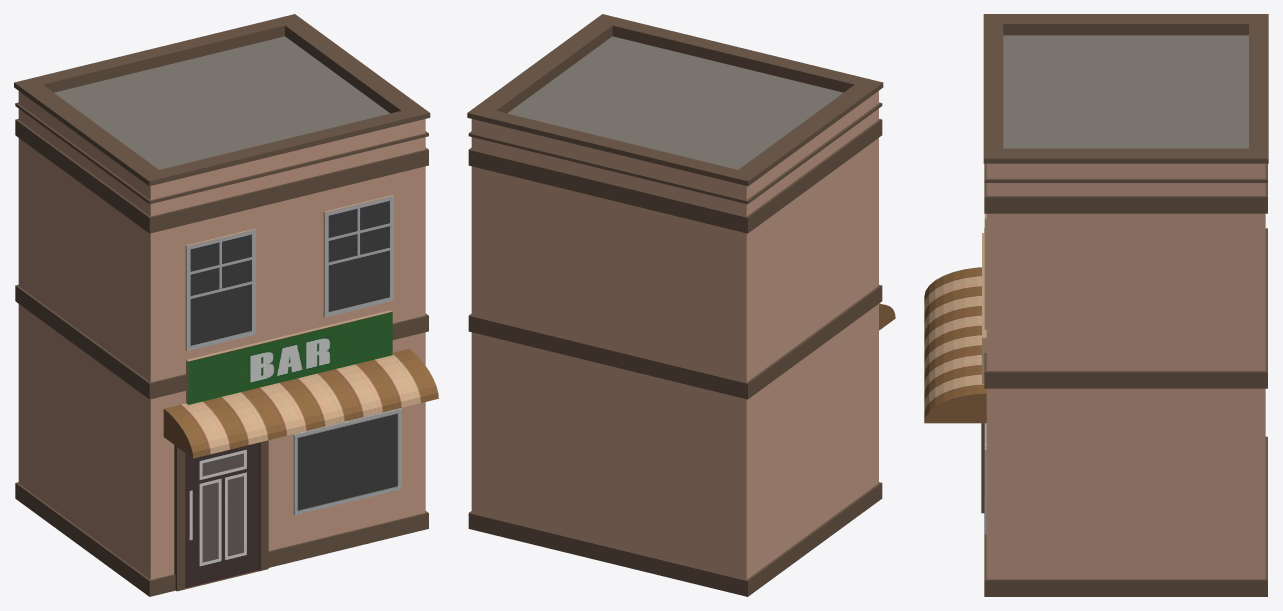
File: Building_Bar.glb
3 views of the same model, side by side, from view 1: azimuth 30°, elevation 25°; view 2: azimuth 150°, elevation 25°; view 3: azimuth 270°, elevation 25° (orthographic). The views are drawn at different scales.
Visible parts, largest first — view 1: Building_Bar; view 2: Building_Bar; view 3: Building_Bar.
Boxes of the visible parts, box(x1,y1,x2,y2) form: Building_Bar: box(14, 14, 438, 596); Building_Bar: box(467, 14, 895, 596); Building_Bar: box(924, 14, 1268, 596).
Size of the model in its own units: 0.5886 by 0.8329 by 0.5926.
Materials: 1 (1 with a texture image).
